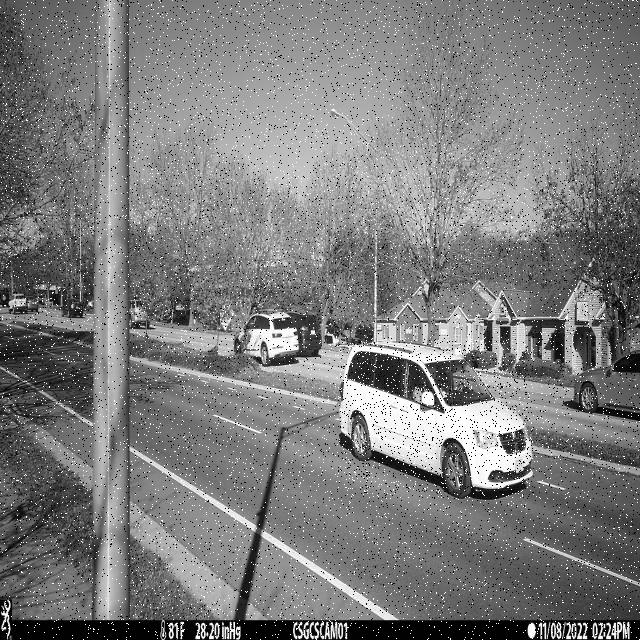Van: (338, 340, 533, 499)
